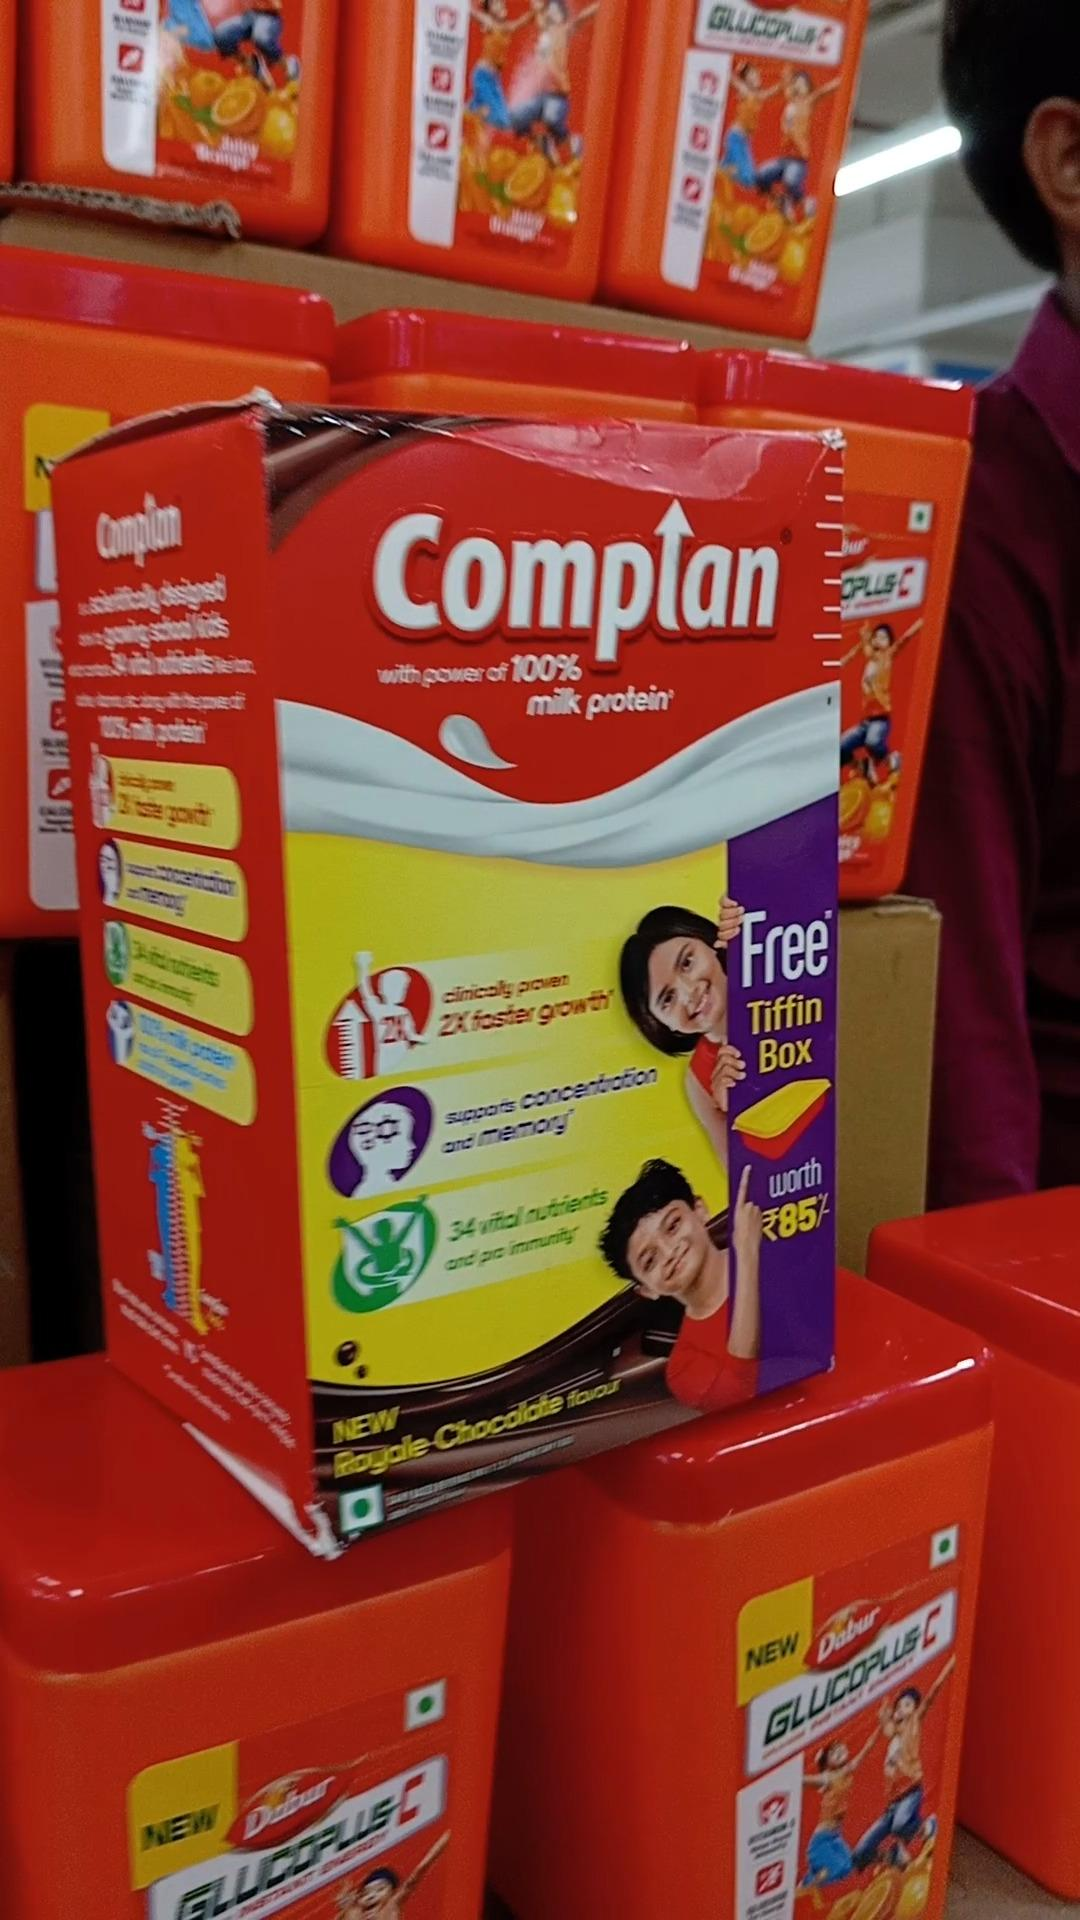COMPLAN_CHOCOLATE_500_GMS_PACK: (276, 390, 845, 1455)
